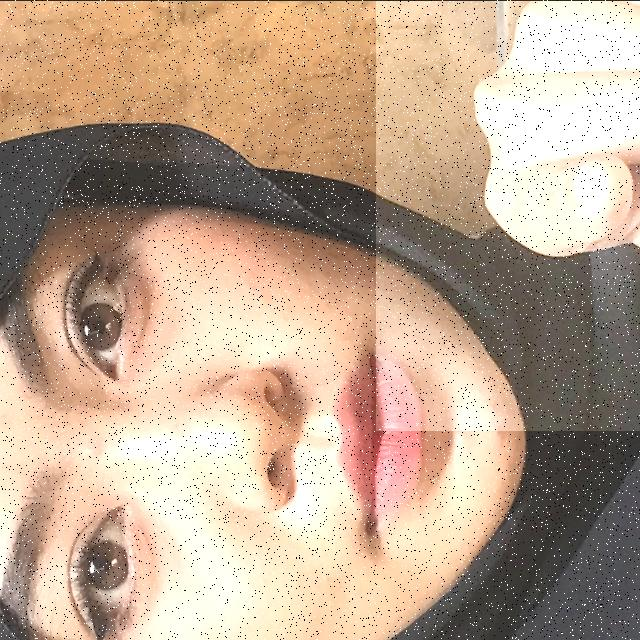kamu: (376, 0, 640, 430)
